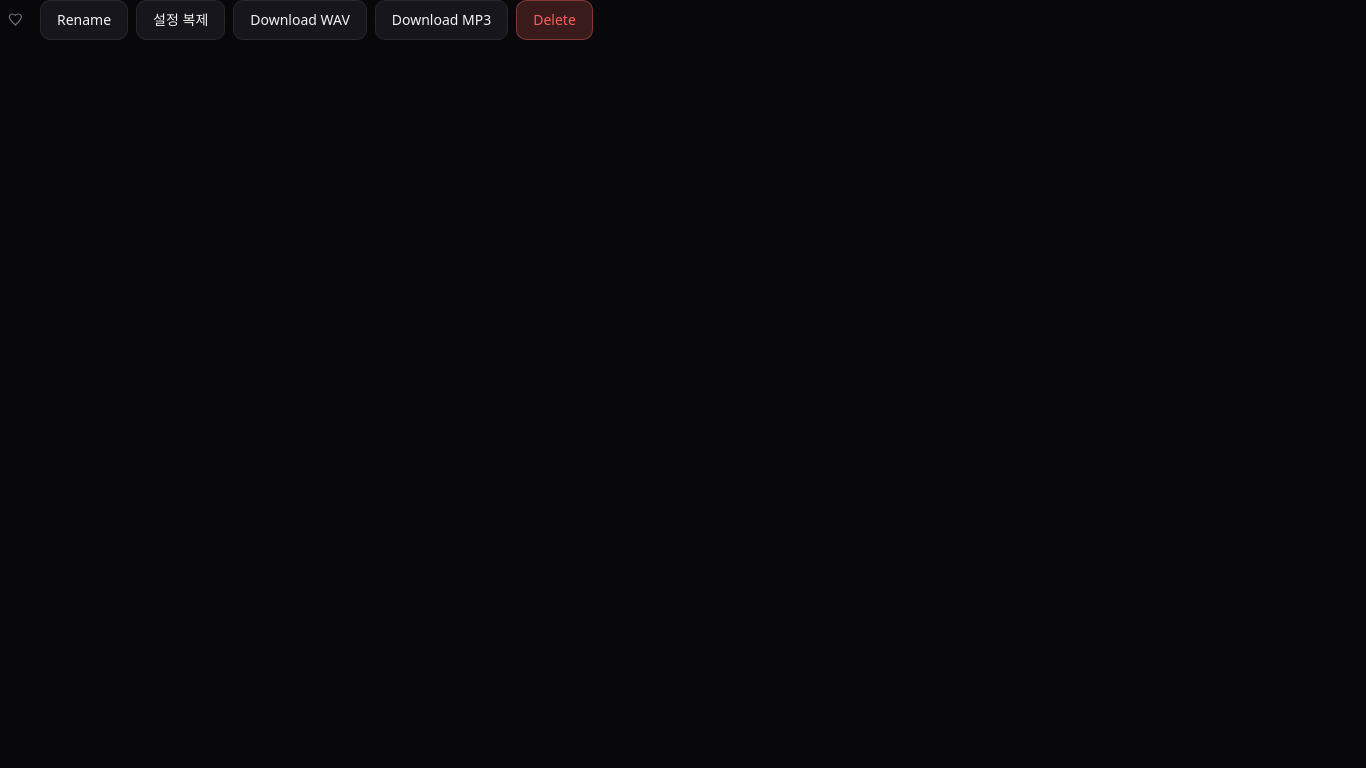
Test: deleting a song with derived versions › does not promise that derived versions are orphaned
Click the button "Delete": (554, 20) [516,0,593,40]
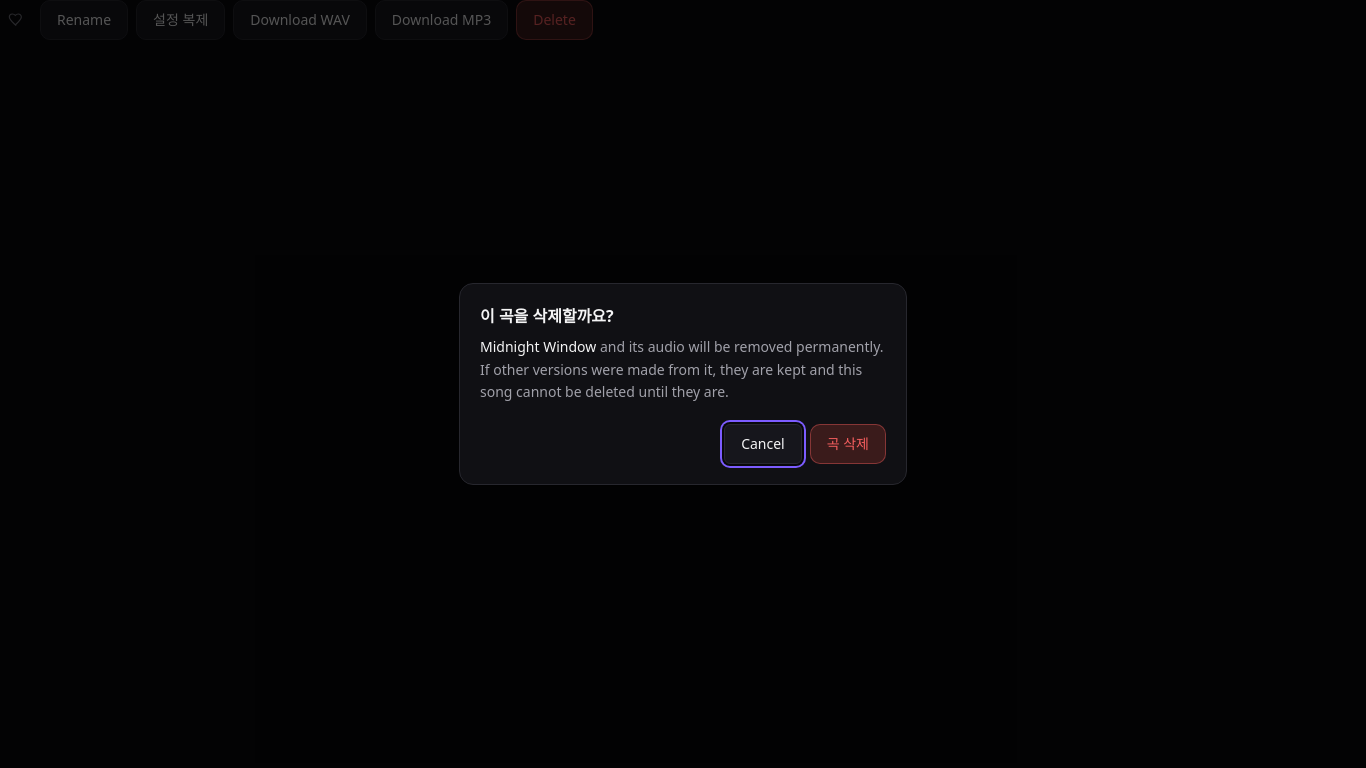
Check: the dialog does not show "Songs generated from it are kept", box [459,283,907,485]
Check: the dialog shows "cannot be deleted until they are", box [480,337,884,401]
